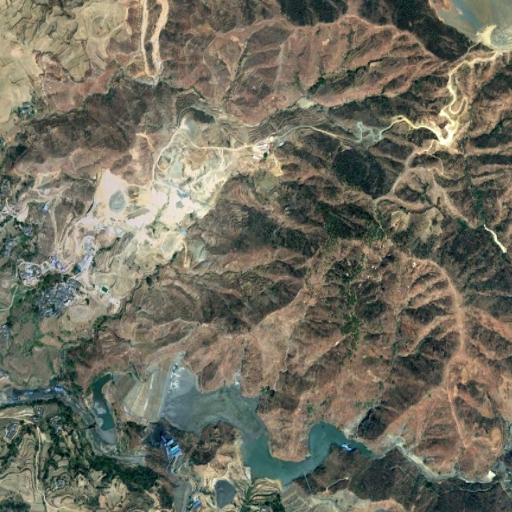tp: (110, 358, 383, 487)
